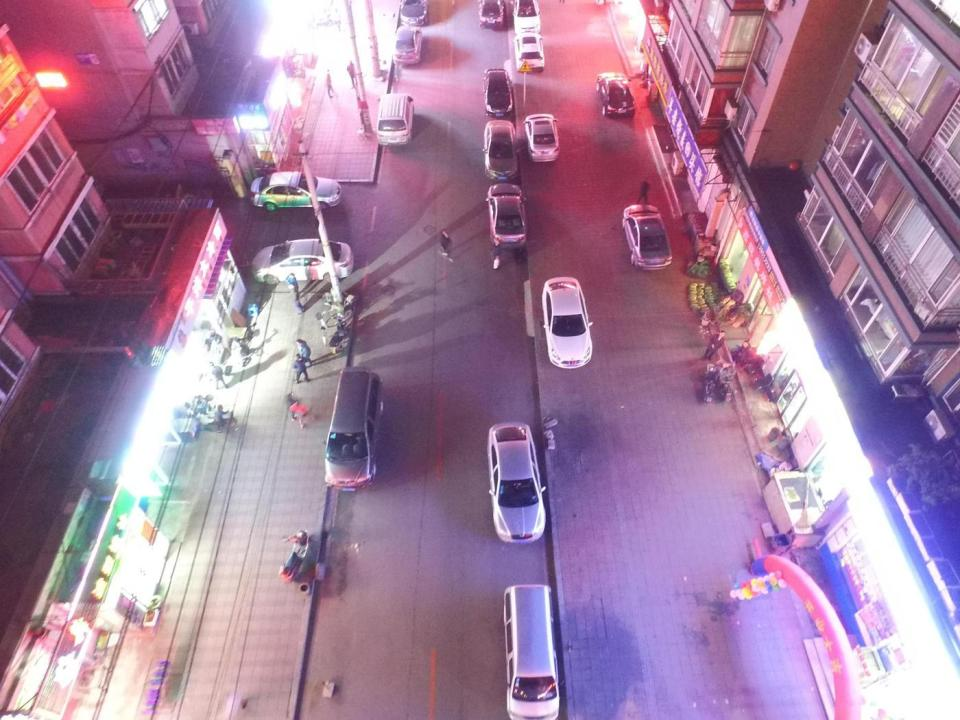car: (486, 419, 547, 546), (250, 237, 354, 286), (541, 276, 593, 370), (248, 169, 342, 212), (620, 202, 672, 272), (486, 181, 528, 251), (483, 118, 518, 180), (595, 70, 636, 120), (523, 112, 560, 164), (482, 66, 514, 116), (514, 31, 545, 72), (392, 25, 423, 65), (512, 0, 541, 34), (478, 0, 506, 29), (400, 0, 428, 25)
van: (502, 583, 559, 720), (324, 366, 384, 491), (375, 92, 414, 147)
